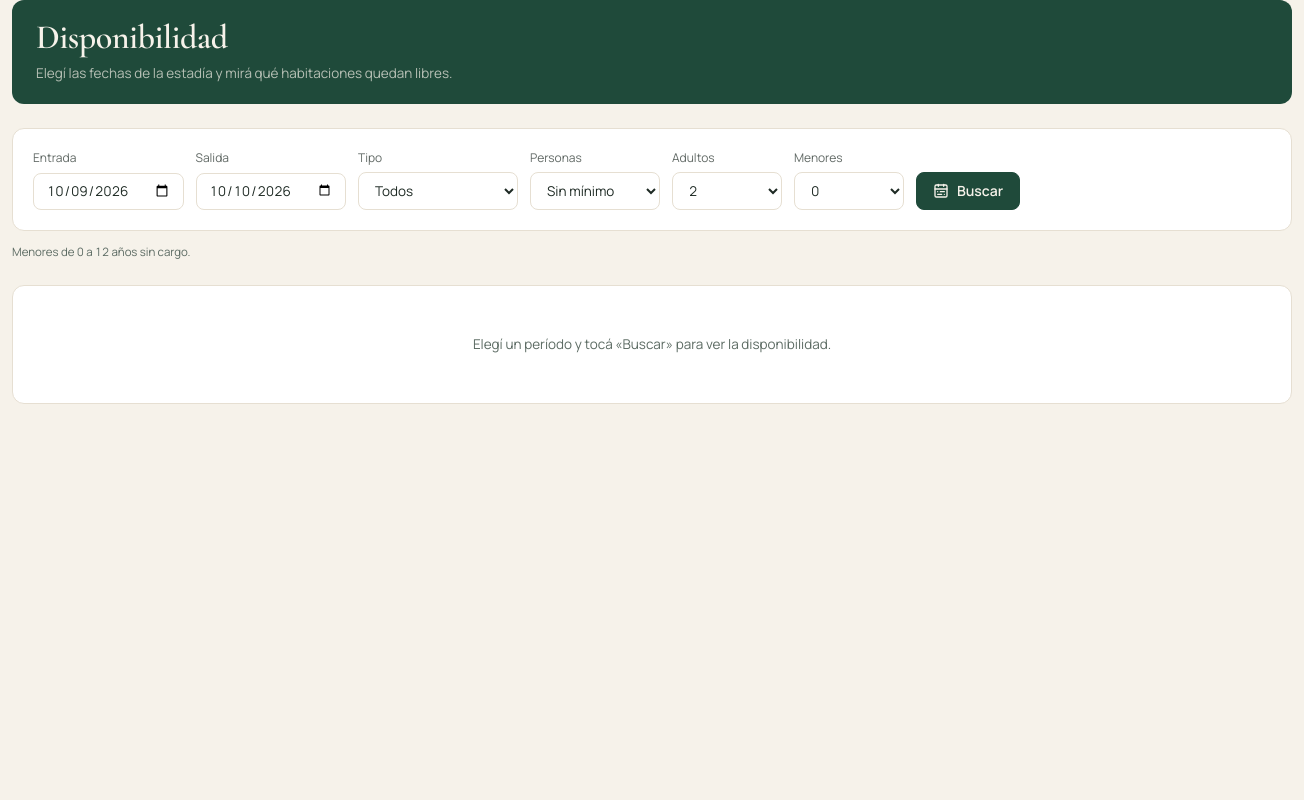
Test: DisponibilidadPage (mostrador): tarjetas seleccionables › deseleccionar una tarjeta ya elegida la saca de la cuenta
Type "2026-10-10" into the date field labelled "Entrada".
click(108, 191); type("2026-10-10")  # box [33,172,184,210]
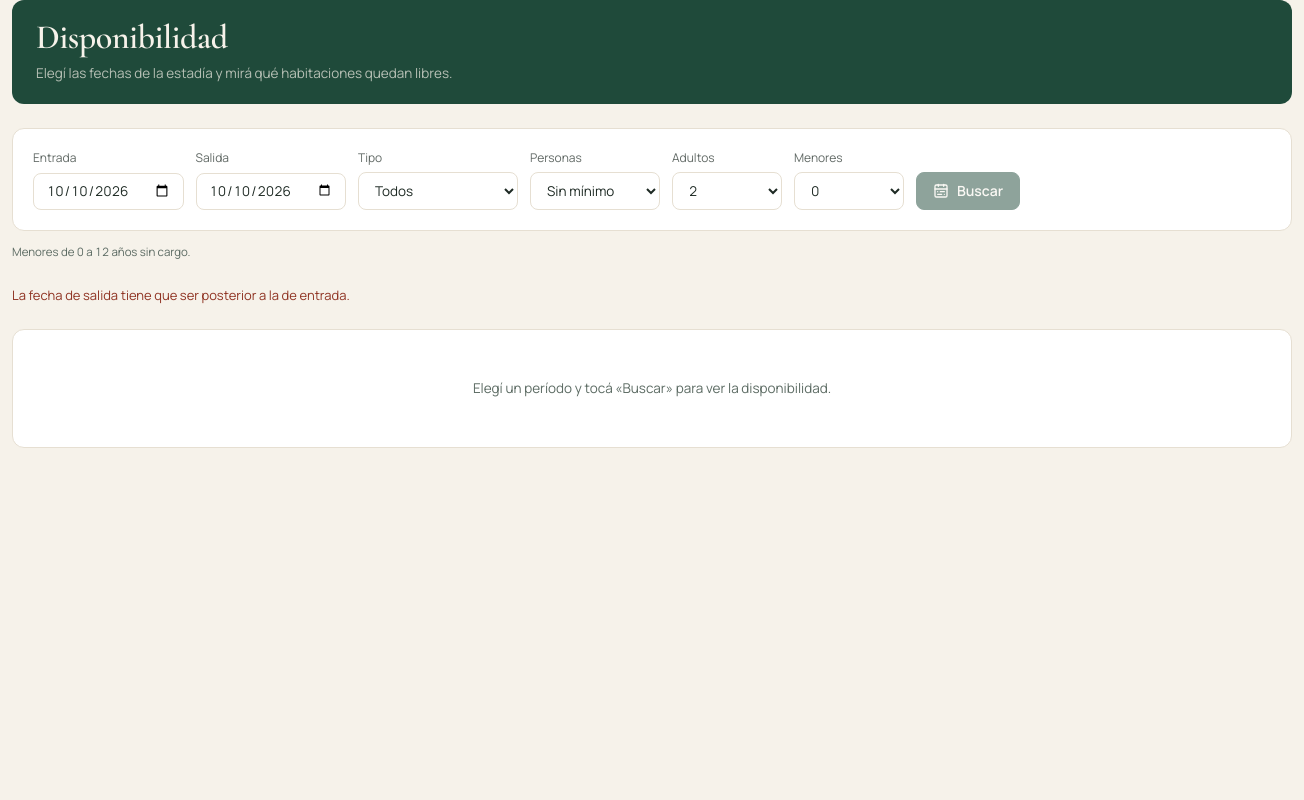
Type "2026-10-13" into the date field labelled "Salida".
click(271, 191); type("2026-10-13")  # box [196,172,346,210]
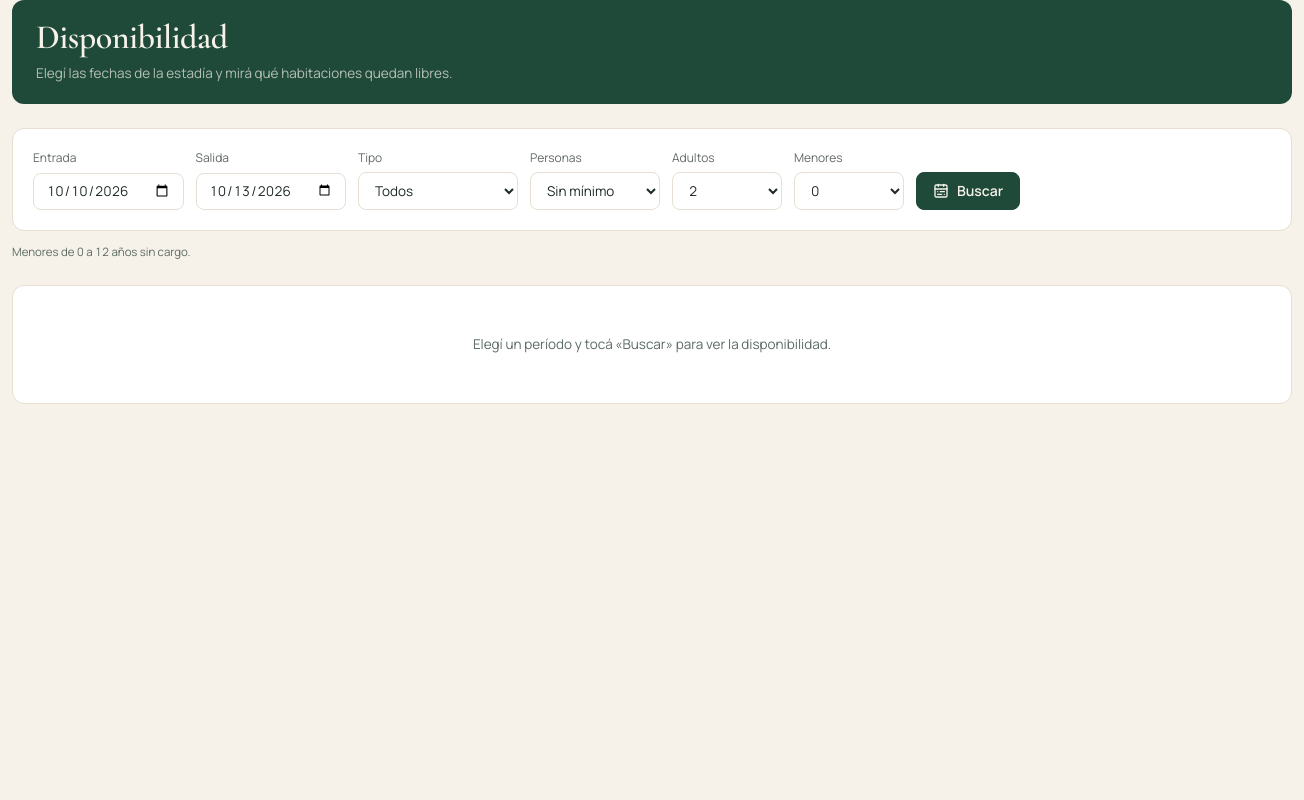
Click the button "Buscar".
click(968, 191)  # box [916,172,1020,210]
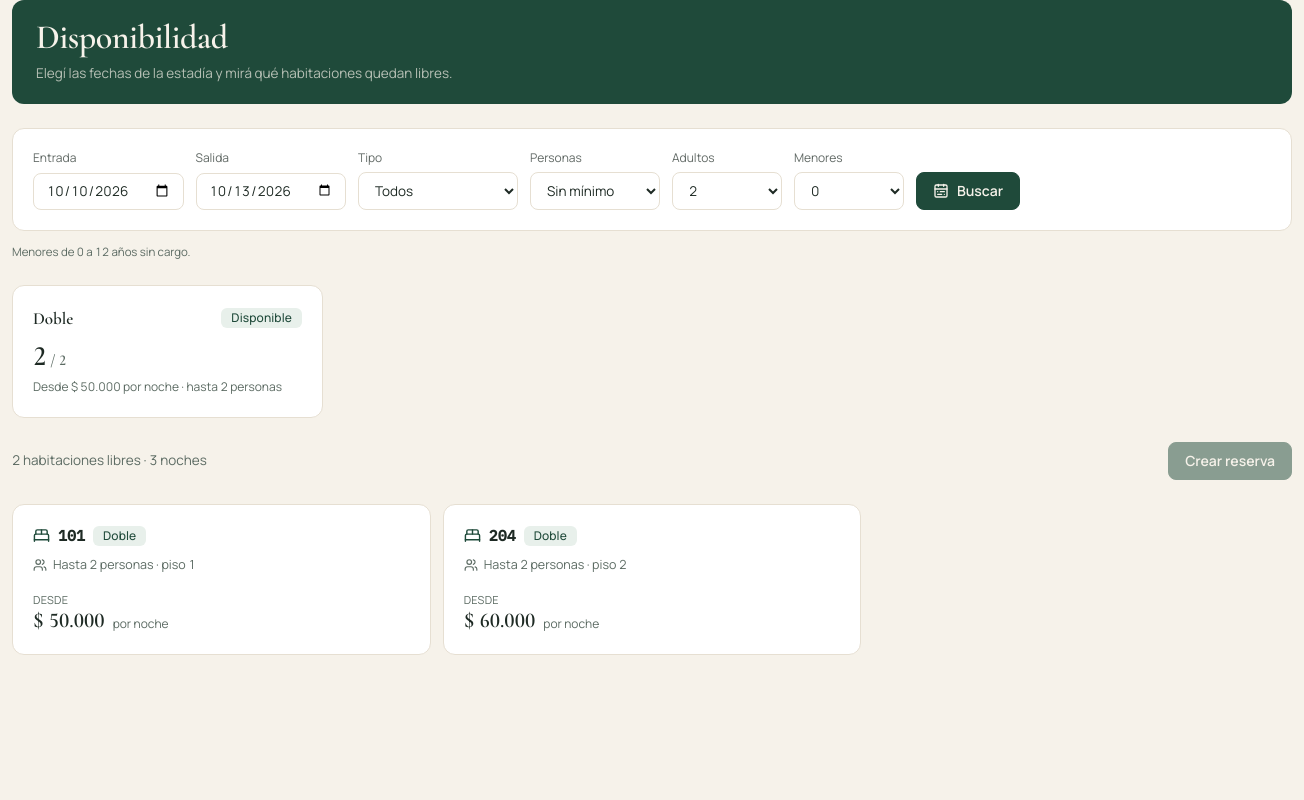
Now the text "101" is shown, box [33,525,85,547]
Click the button "101".
click(120, 536)  # box [12,504,431,655]
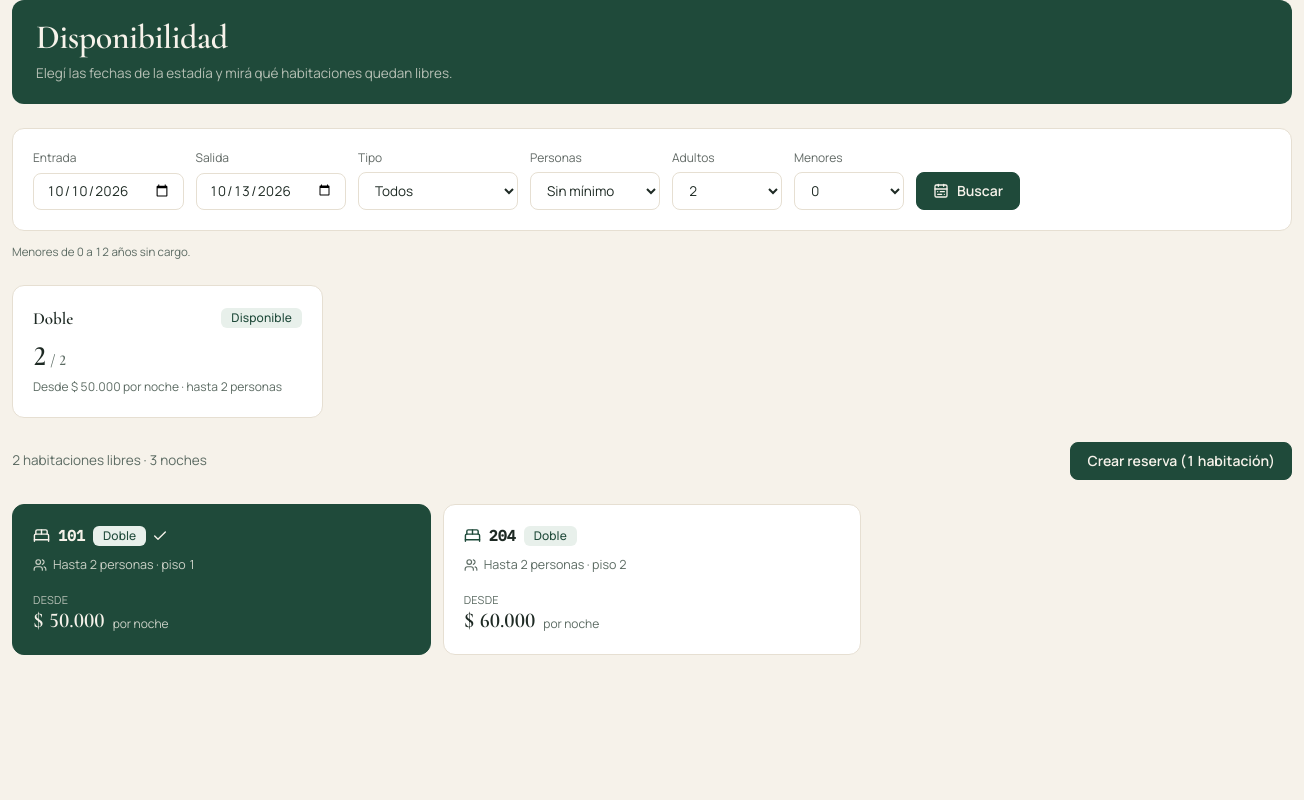
Now the button "Crear reserva (1 habitación)" is shown, box [1070,442,1292,480]
Click the button "101".
click(120, 536)  # box [12,504,431,655]
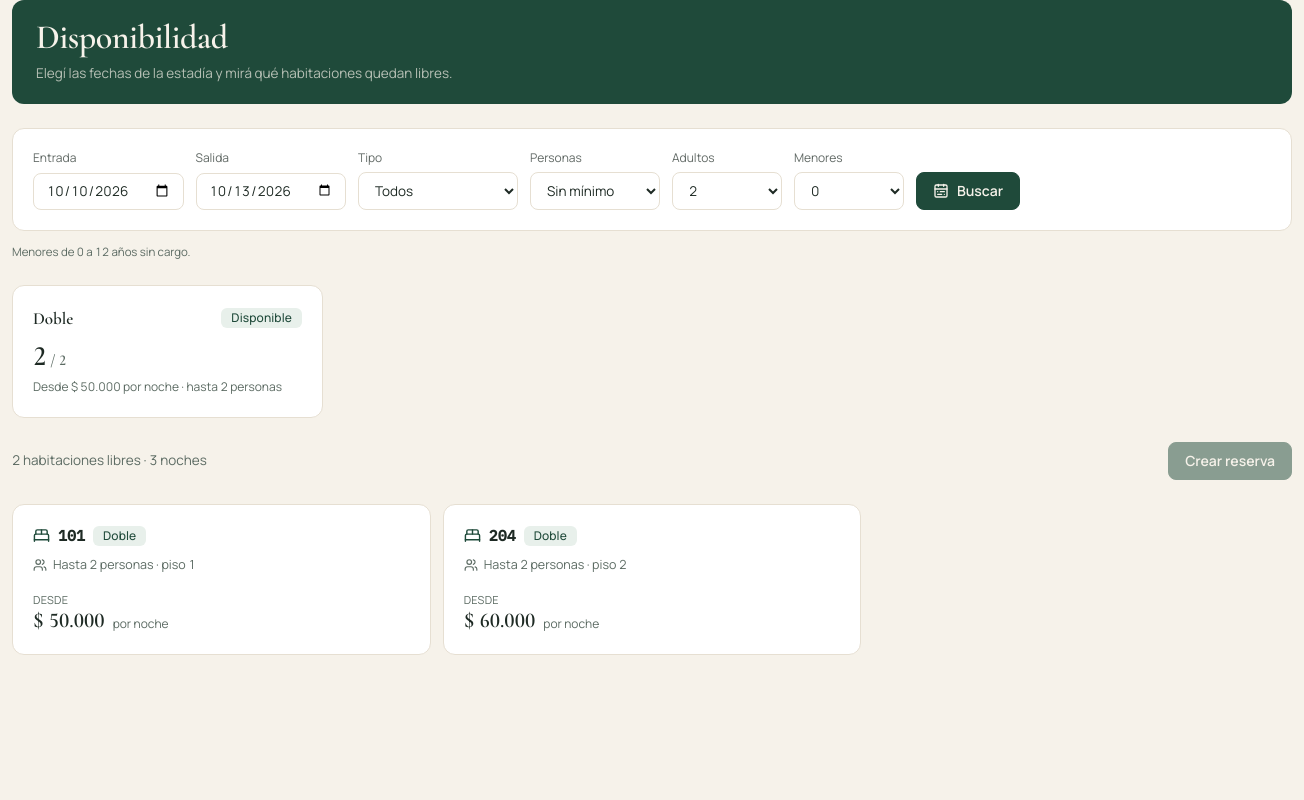
Now the button "Crear reserva" is shown, box [1168,442,1292,480]
Now the button "Crear reserva" is disabled, box [1168,442,1292,480]
